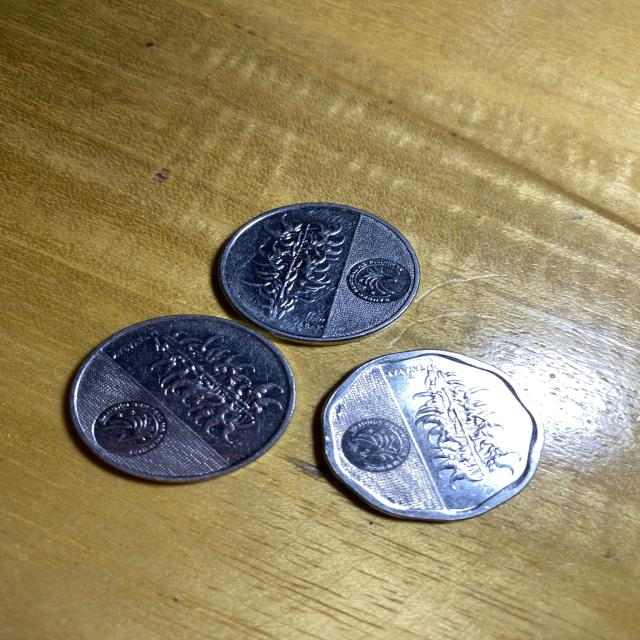5_New_Back: (134, 330, 267, 431), (414, 370, 515, 478), (251, 213, 345, 323)
